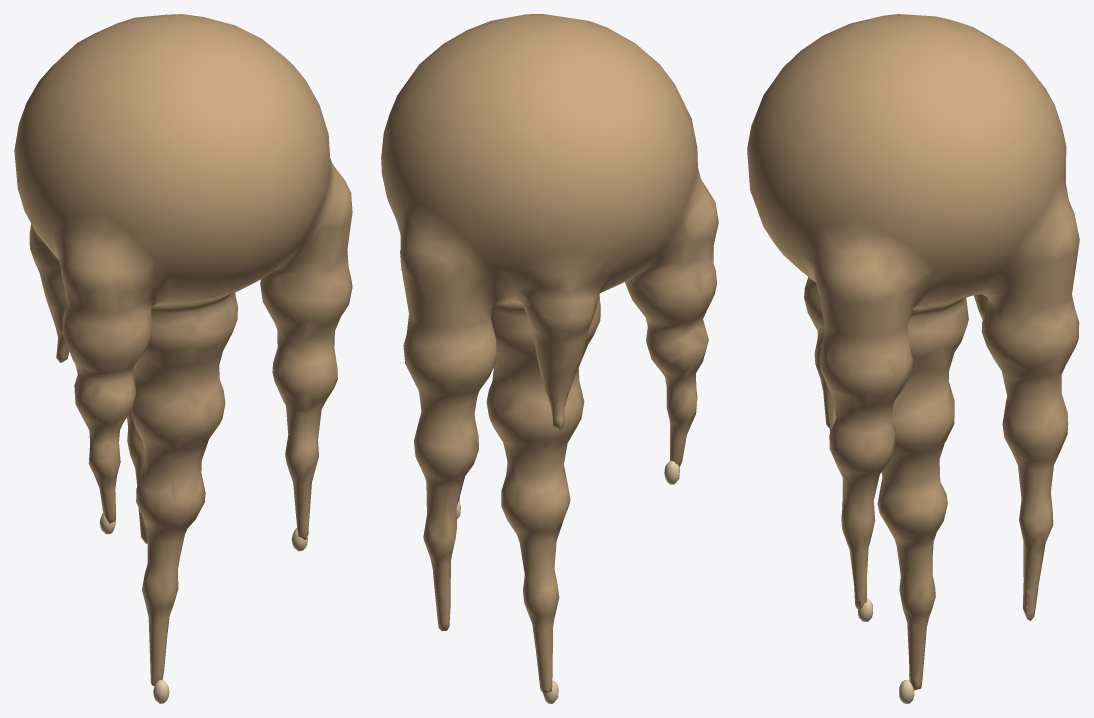
The model's file is stalactite-b.glb.
3 views of the same model, side by side, from view 1: azimuth 30°, elevation 25°; view 2: azimuth 150°, elevation 25°; view 3: azimuth 270°, elevation 25° (orthographic).
Visible parts, largest first — view 1: calcite_0; view 2: calcite_0; view 3: calcite_0.
Boxes of the visible parts, x1,y1,x2,y2 form: calcite_0: [14, 14, 352, 686]; calcite_0: [381, 14, 718, 693]; calcite_0: [747, 14, 1079, 690].
Size of the model in its own units: 0.9976 by 2.18 by 0.9672.
